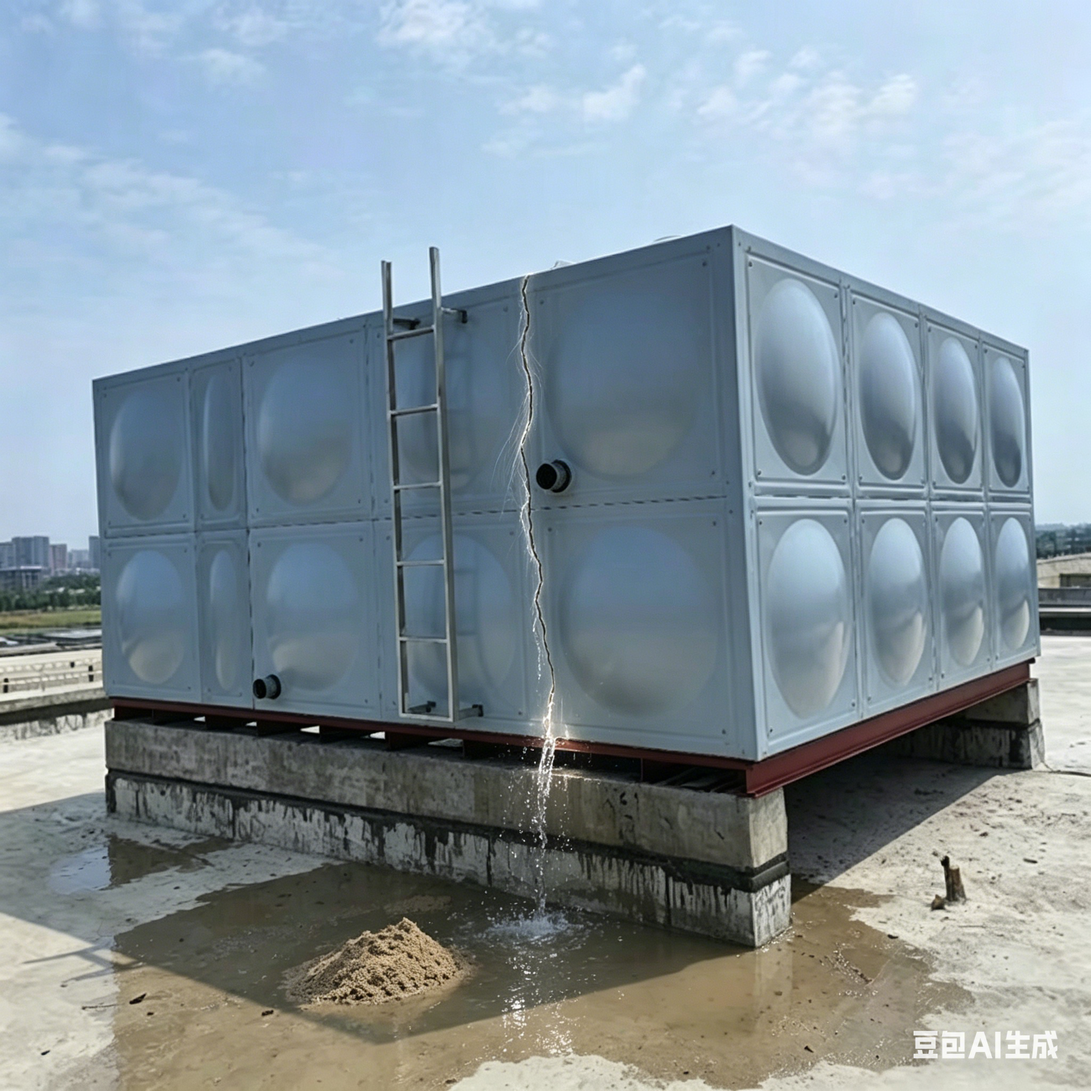Leakage: (497, 277, 606, 1053), (130, 935, 491, 1091), (632, 911, 949, 1077), (221, 880, 479, 927), (36, 834, 185, 900)
